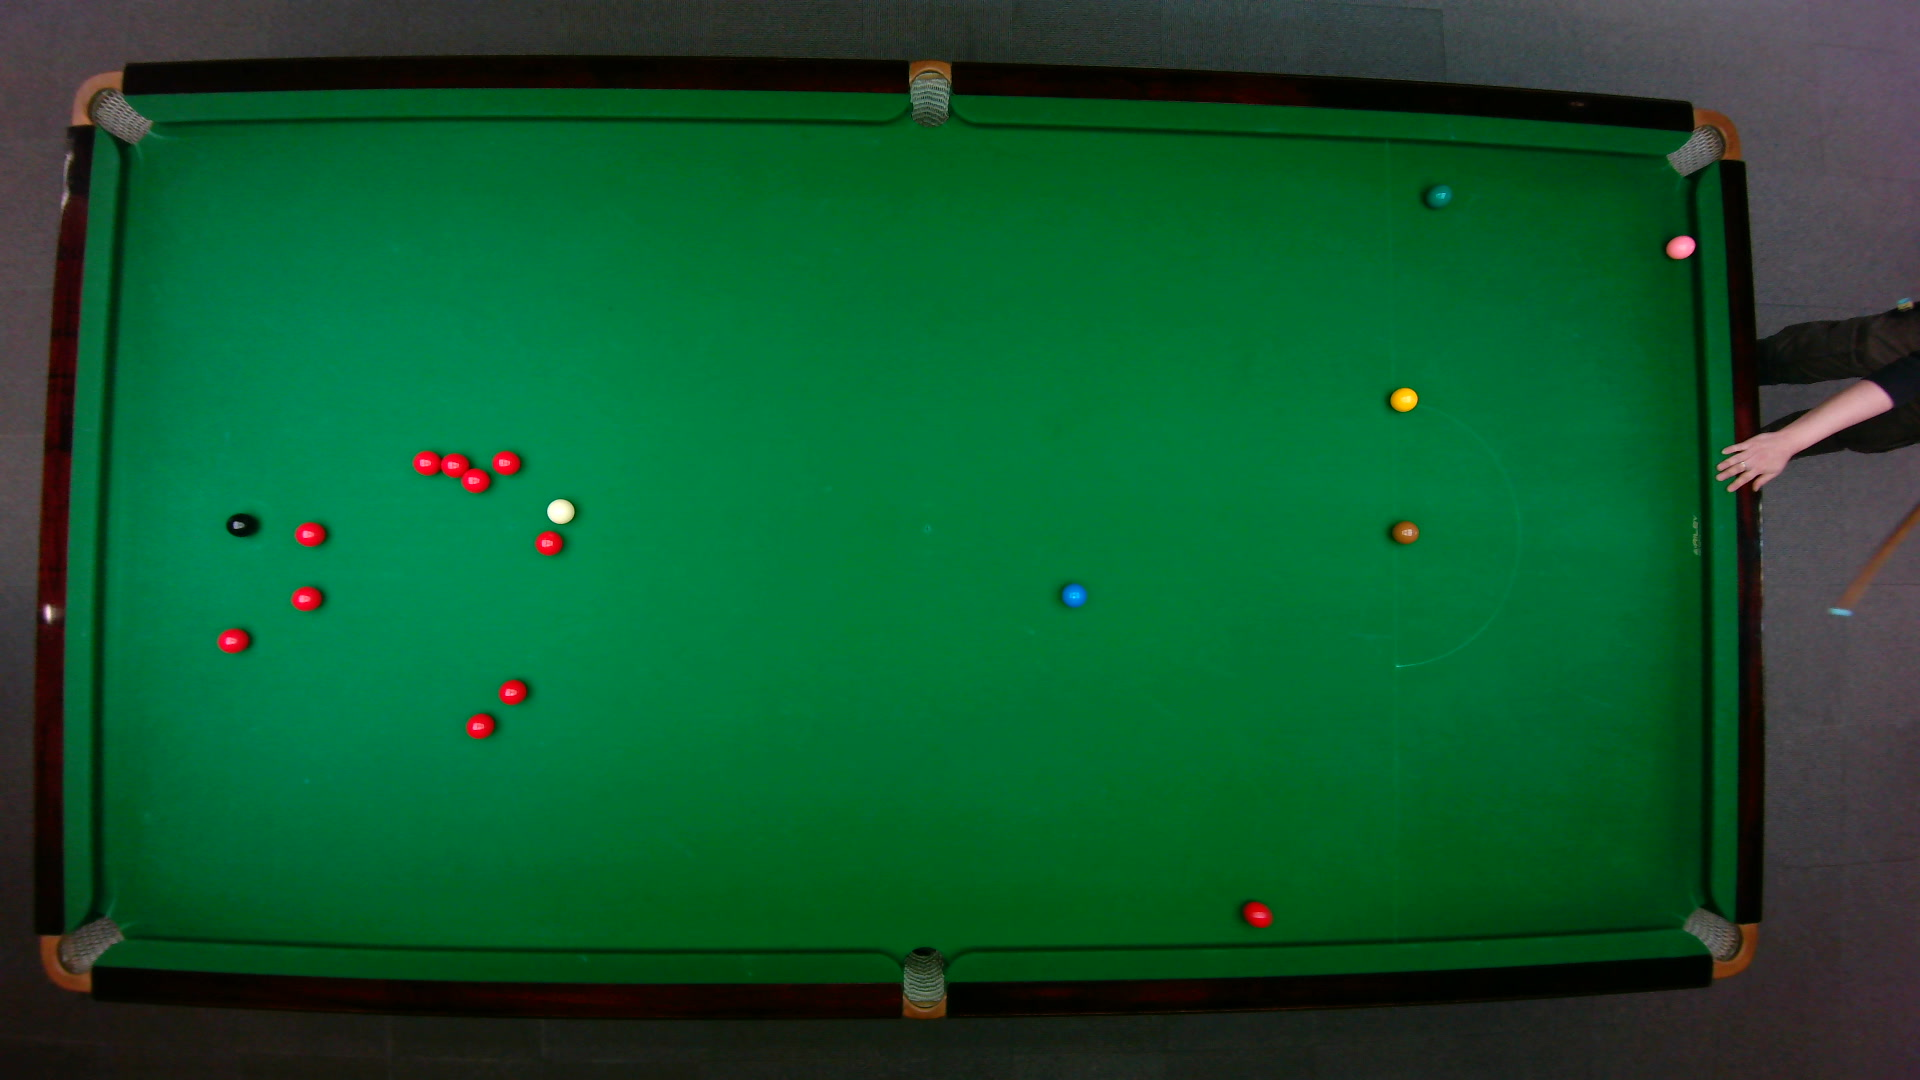bag: (38, 914, 125, 992), (69, 69, 152, 145), (1679, 905, 1756, 978), (1663, 107, 1741, 177), (901, 944, 944, 1021), (909, 57, 949, 128)
black: (223, 512, 256, 537)
blue: (1058, 580, 1087, 608)
brown: (1389, 520, 1419, 545)
cue: (1825, 487, 1920, 621)
green: (1423, 182, 1453, 208)
pink: (1663, 232, 1697, 260)
red: (214, 625, 251, 653), (496, 676, 527, 705), (1241, 899, 1273, 928), (293, 520, 326, 547), (463, 711, 496, 738), (289, 584, 323, 611), (459, 465, 491, 493), (533, 529, 563, 556), (491, 447, 521, 475), (439, 450, 469, 477), (411, 448, 440, 475)
white: (545, 496, 576, 525)
yellow: (1389, 385, 1419, 411)
zone: (1390, 400, 1520, 667)
